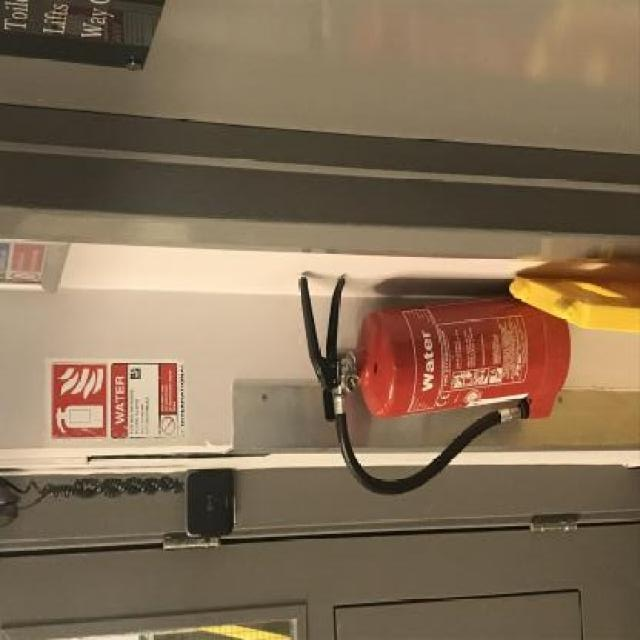fire extinguisher: (296, 274, 570, 495)
